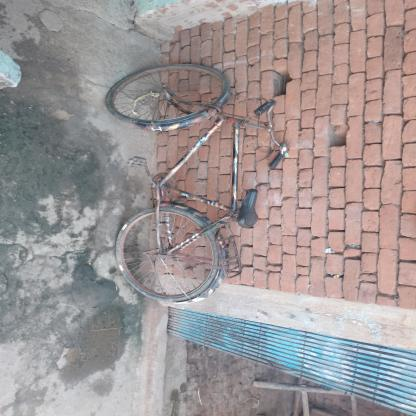bike: (93, 55, 306, 316)
